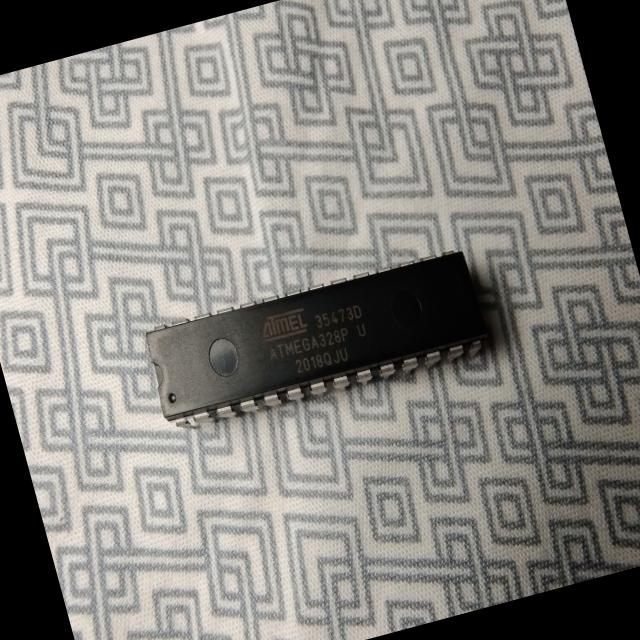atmega: (138, 240, 497, 442)
